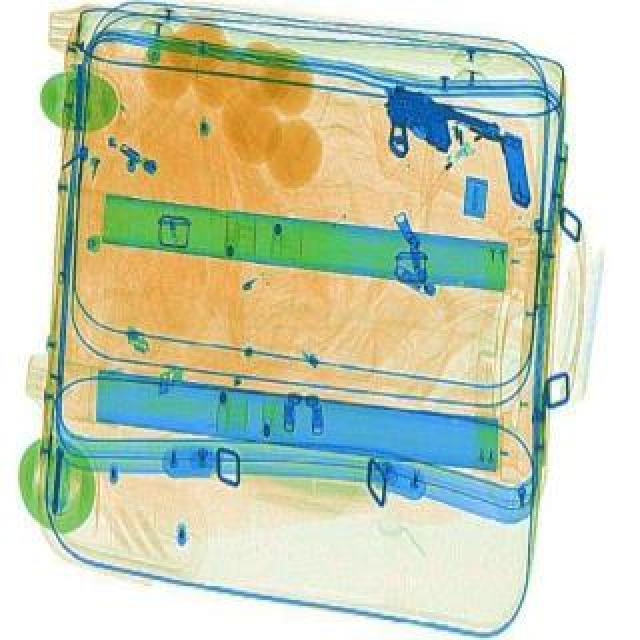gun: (362, 82, 506, 186)
